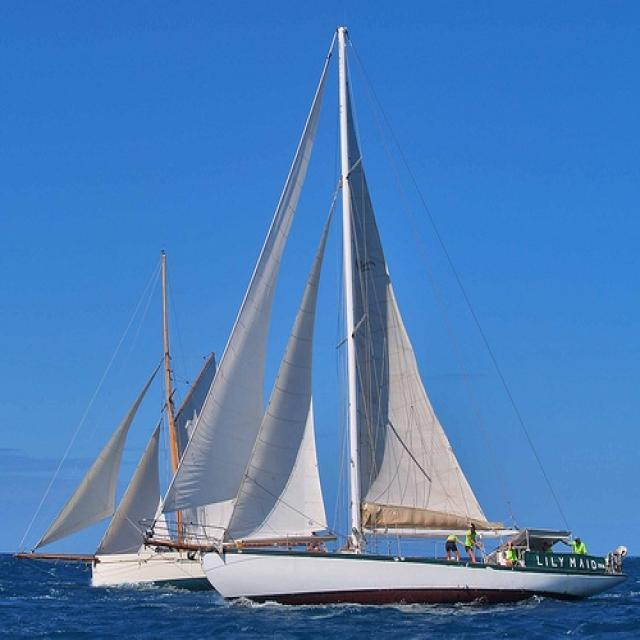Ship: (24, 19, 630, 604)
